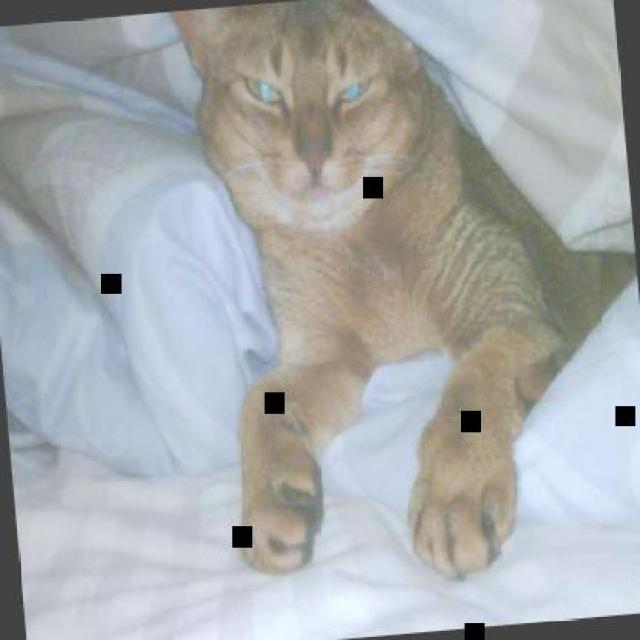cat: (144, 0, 638, 606)
